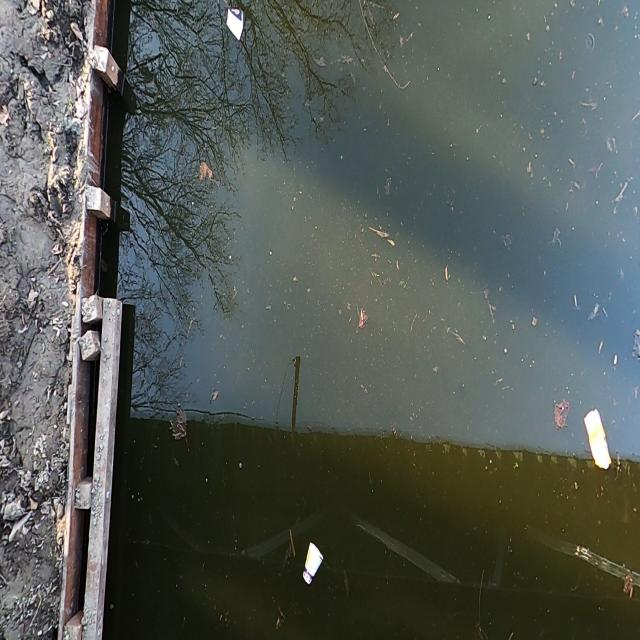Non plastique: (580, 401, 610, 476), (299, 535, 328, 589), (222, 0, 249, 46)
